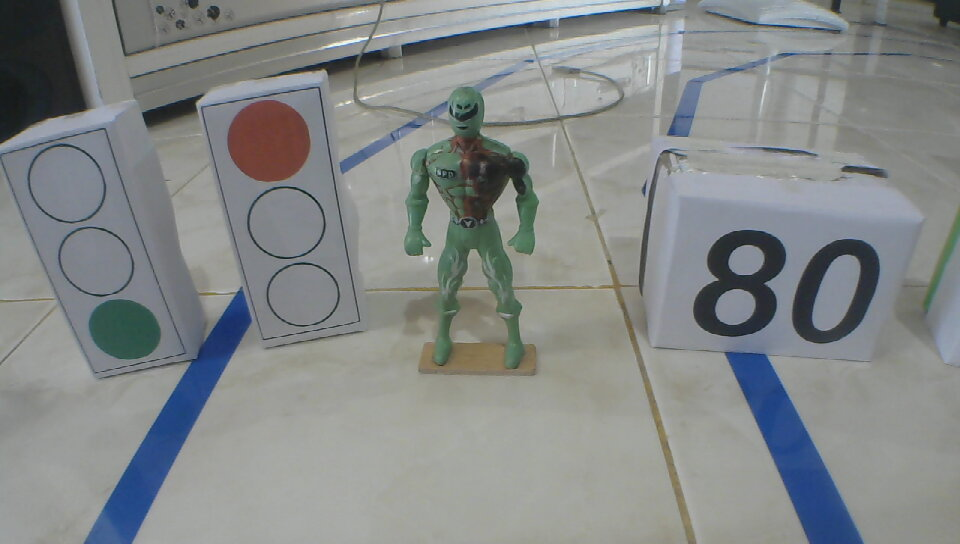Green Light: (28, 141, 165, 364)
Person: (402, 85, 540, 374)
Red Light: (227, 98, 342, 332)
Speed 80: (691, 229, 881, 346)
